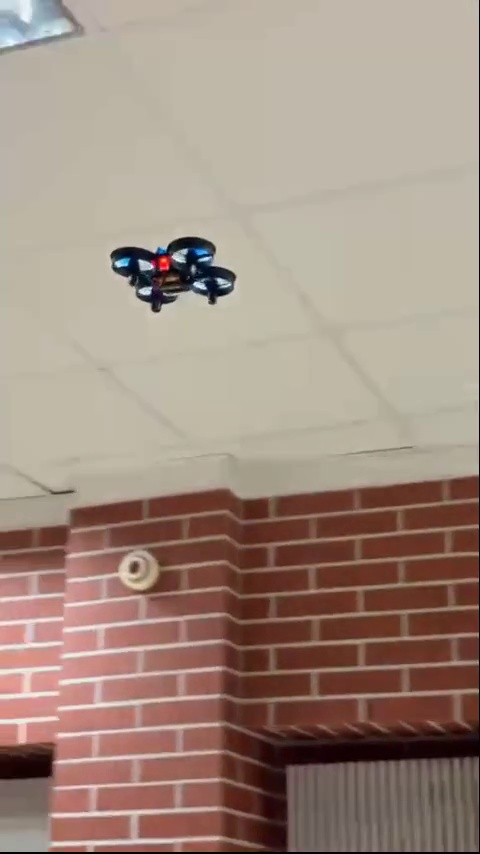drone: (109, 239, 238, 312)
